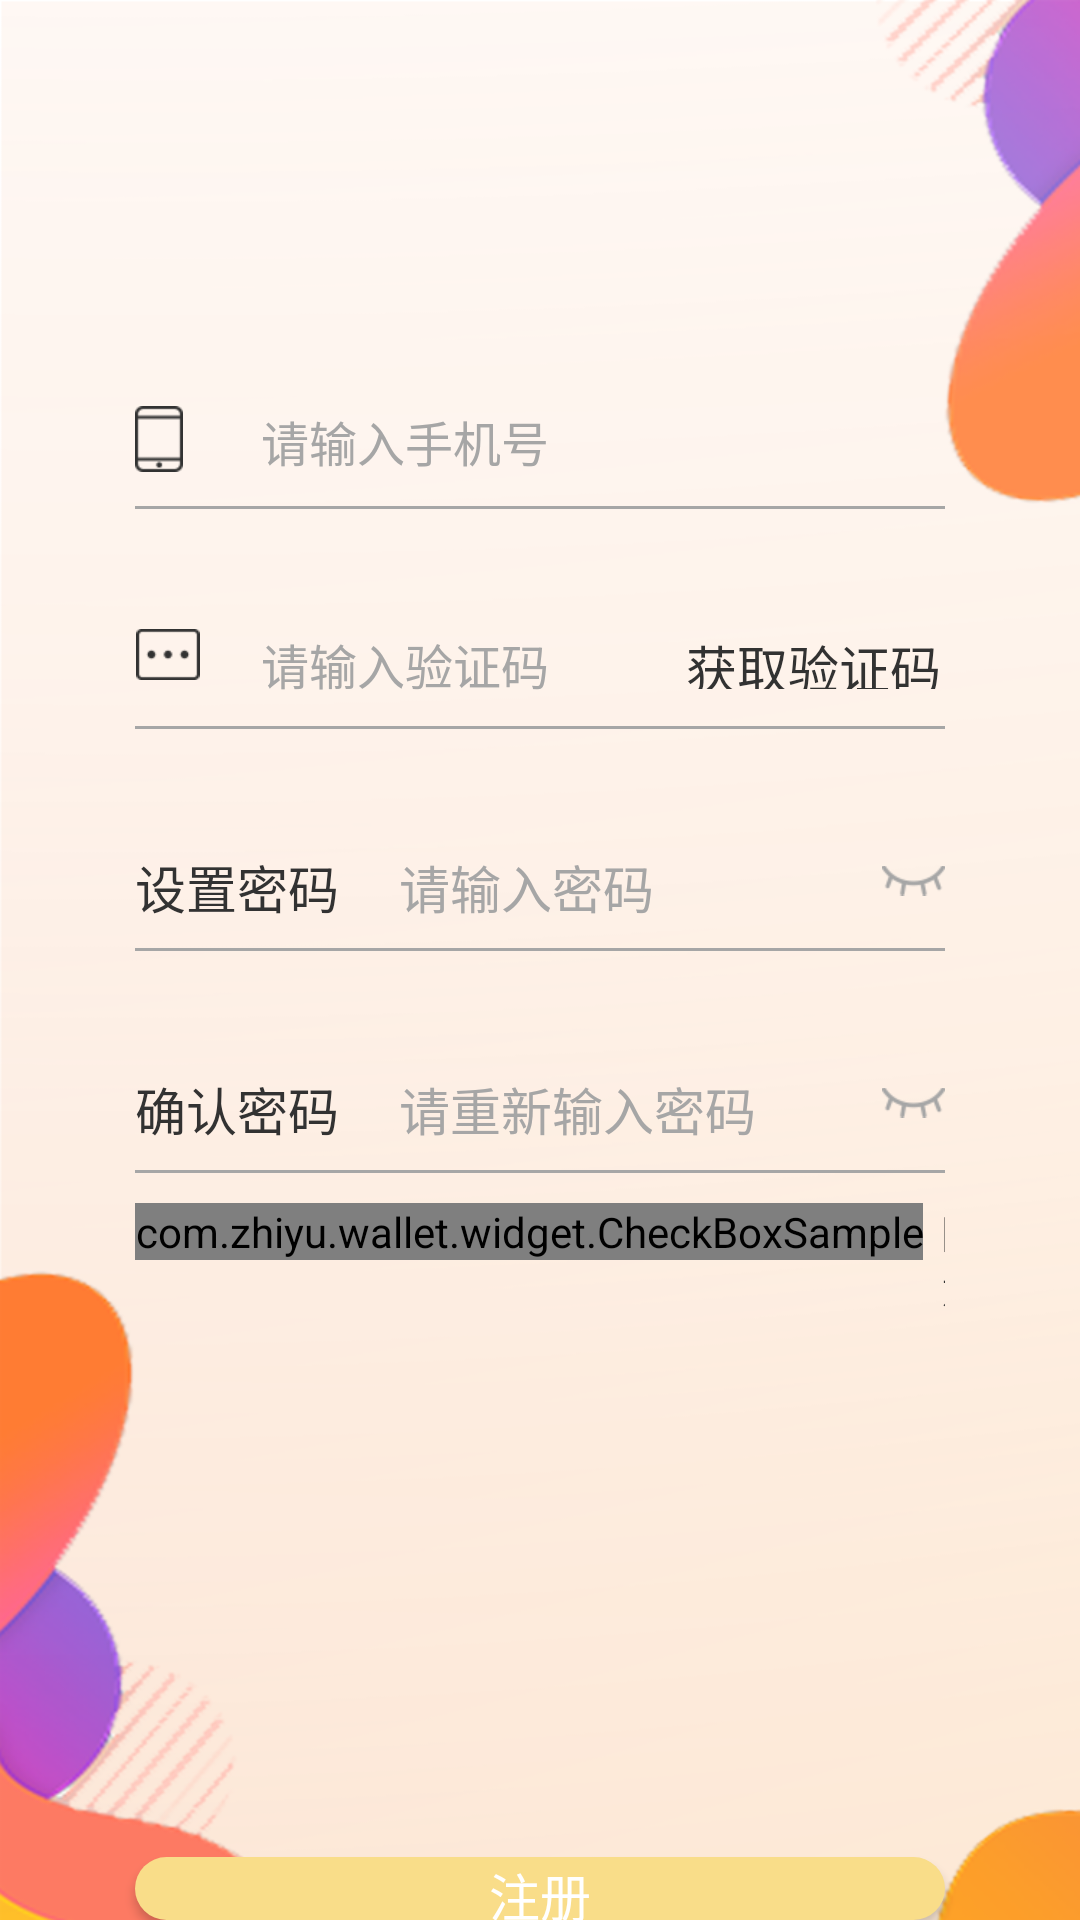

Named icons in this screenshot (1080×1920) and their centers, point (x, y):
identicode: point (168, 654)
pwd hide: point (913, 881), point (913, 1103)
telnumber: point (159, 439)
